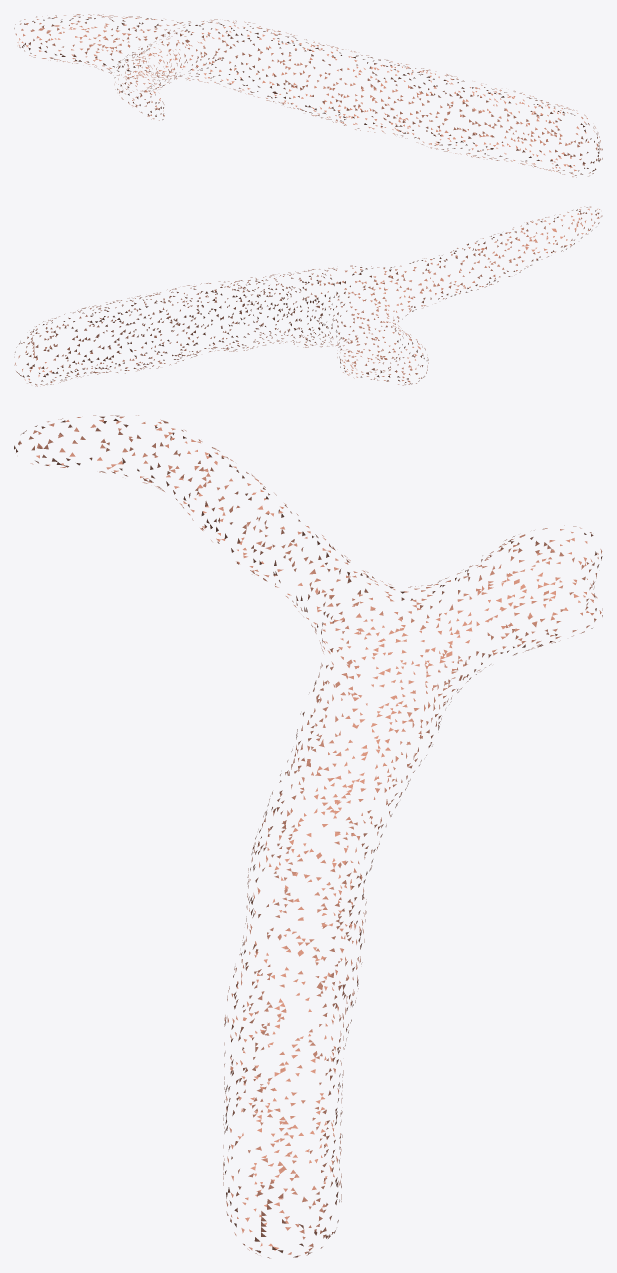
Rendered from morph_003.glb.
3 renders of one model, top to bottom at view 1: azimuth 30°, elevation 25°; view 2: azimuth 150°, elevation 25°; view 3: azimuth 270°, elevation 25°, orthographic. The views are drawn at different scales.
Bounding box in the file's own units: 124 × 58.89 × 71.79.
